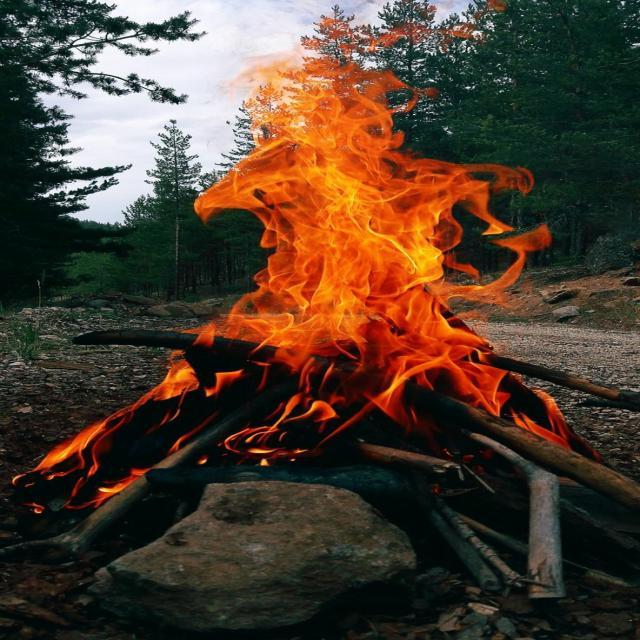Fire: (181, 22, 596, 519)
